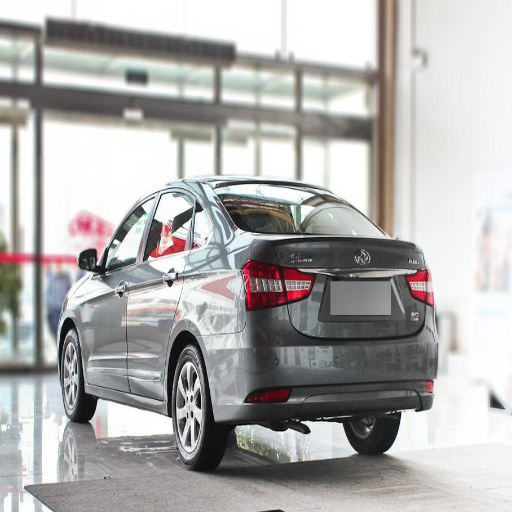back_bumper: (207, 306, 435, 423)
back_glass: (226, 187, 377, 232)
back_left_door: (128, 185, 200, 395)
tailgate: (266, 234, 420, 340)
